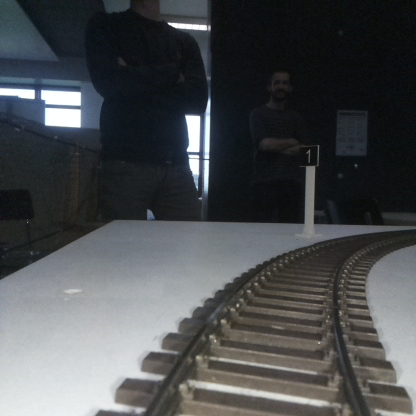black-info-1: (300, 144, 317, 234)
